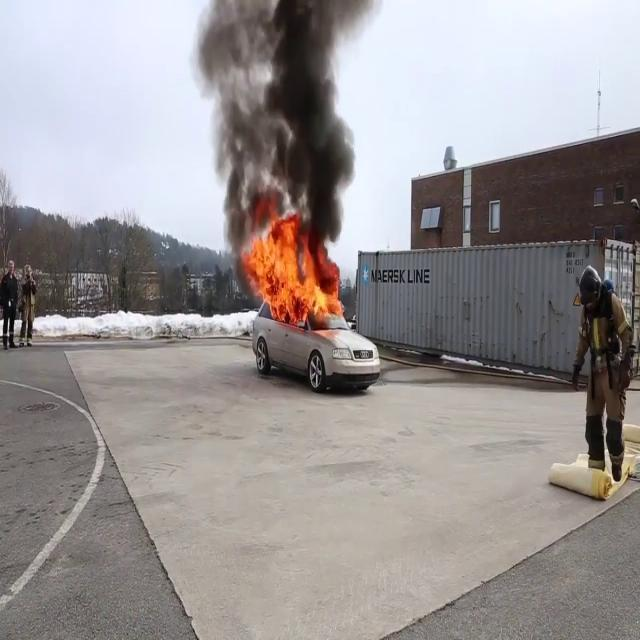Fire: (242, 213, 344, 329)
Smoke: (190, 0, 368, 239)
